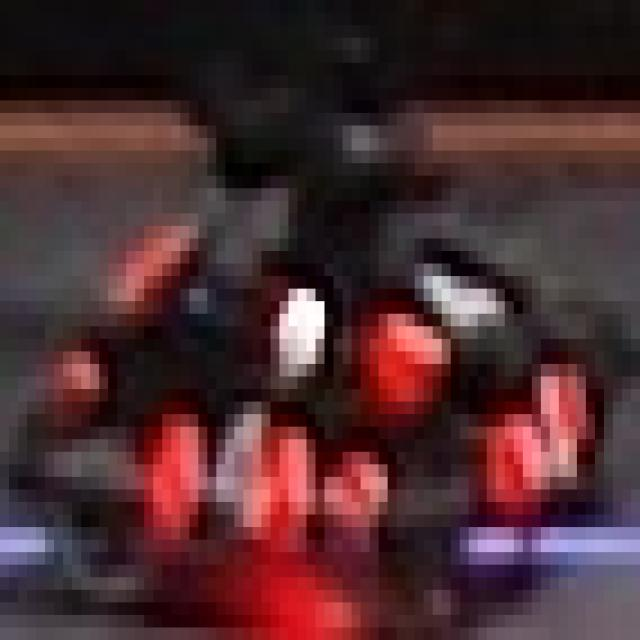R4: (144, 389, 316, 552), (487, 339, 595, 502)
